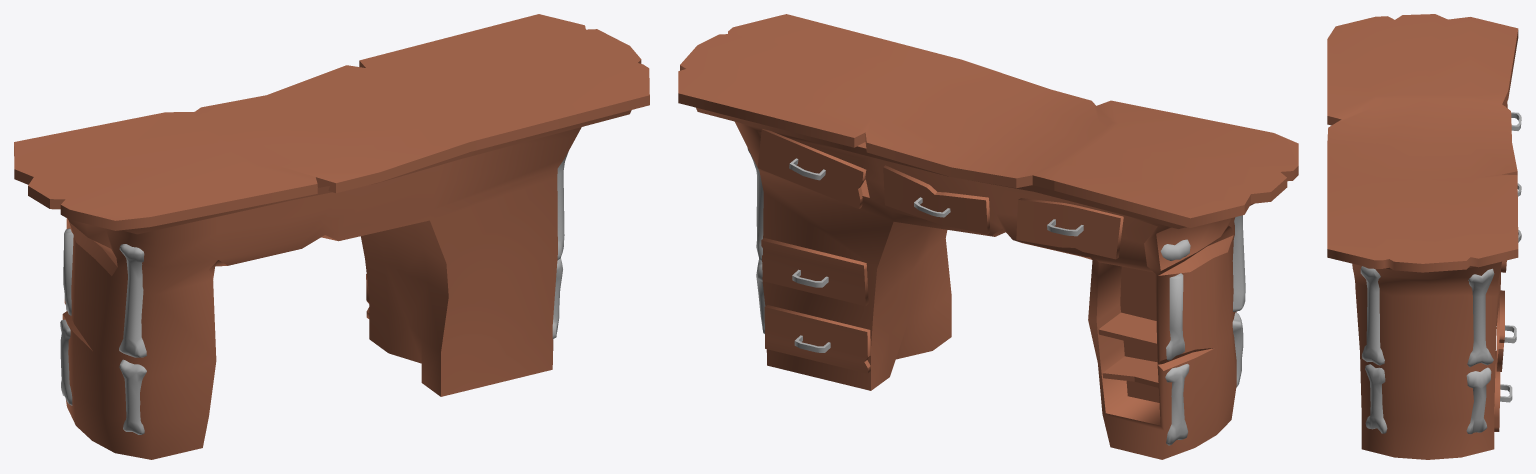
Rendered from MesaCpt.fbx.
3 views of the same model, side by side, from view 1: azimuth 30°, elevation 25°; view 2: azimuth 150°, elevation 25°; view 3: azimuth 270°, elevation 25° (orthographic). The views are drawn at different scales.
Parts seen in each view (by area): view 1: Mesa.Capitao; view 2: Mesa.Capitao; view 3: Mesa.Capitao.
Boxes of the visible parts, box(x1,y1,x2,y2) form: Mesa.Capitao: box(14, 14, 649, 459); Mesa.Capitao: box(678, 14, 1298, 459); Mesa.Capitao: box(1327, 14, 1521, 459).
Size of the model in its own units: 361 by 157 by 119.
